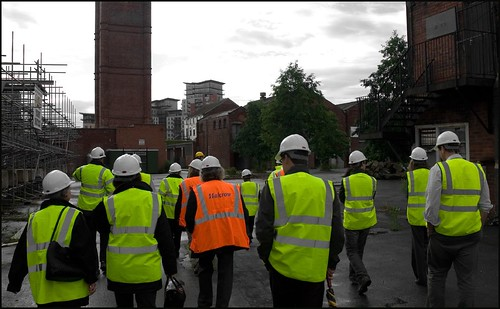person hardhat: (428, 132, 499, 309), (259, 132, 327, 309), (14, 168, 100, 306), (104, 154, 164, 303), (190, 157, 234, 309), (340, 150, 375, 296), (404, 145, 440, 284), (76, 147, 110, 280), (159, 160, 182, 274), (184, 158, 206, 273), (237, 164, 260, 247), (192, 148, 207, 161)
